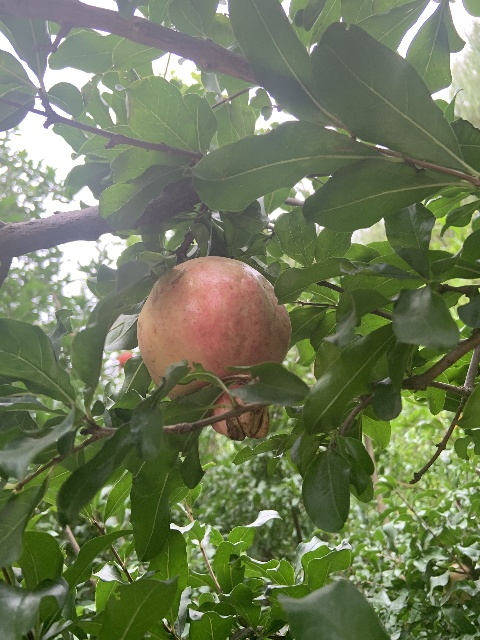ripe: (136, 255, 291, 441)
